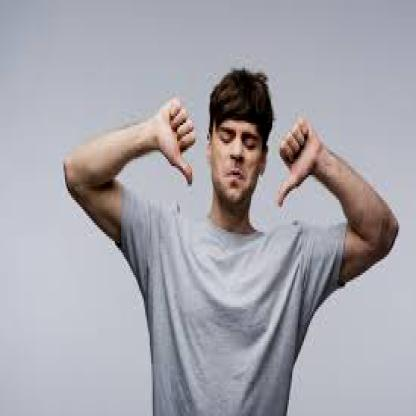Thumbs Down: (150, 86, 204, 195), (283, 113, 322, 210)
